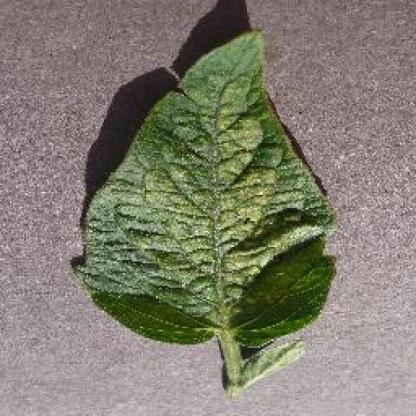Tomato_Spider_Mites: (74, 30, 336, 340)
